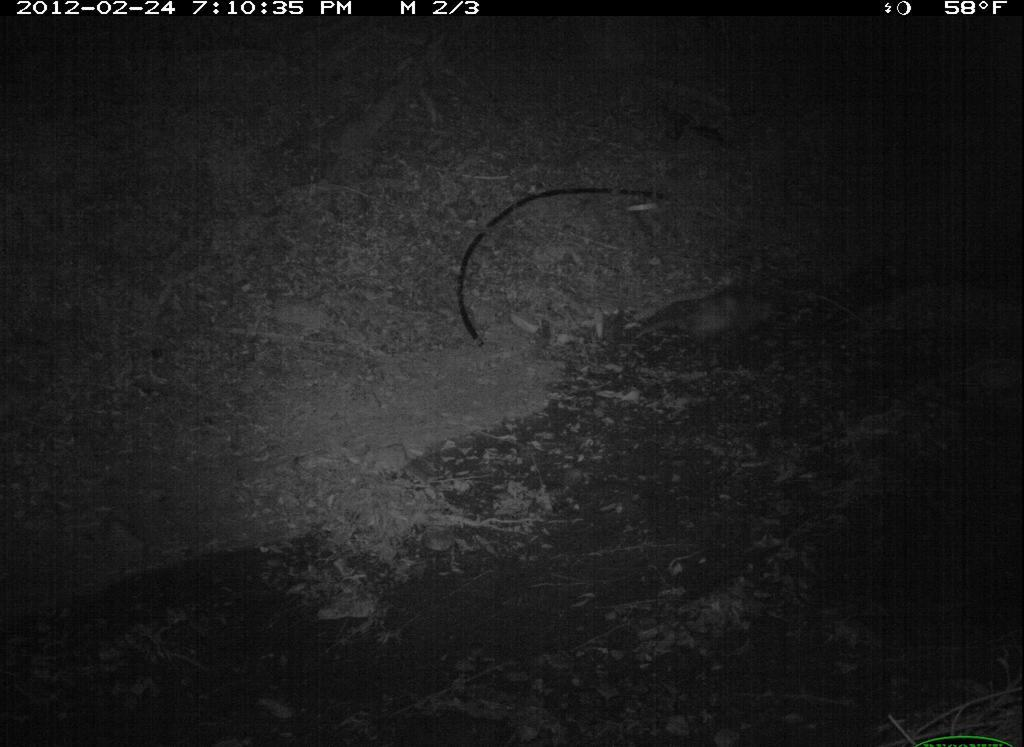opossum: (637, 276, 792, 367)
